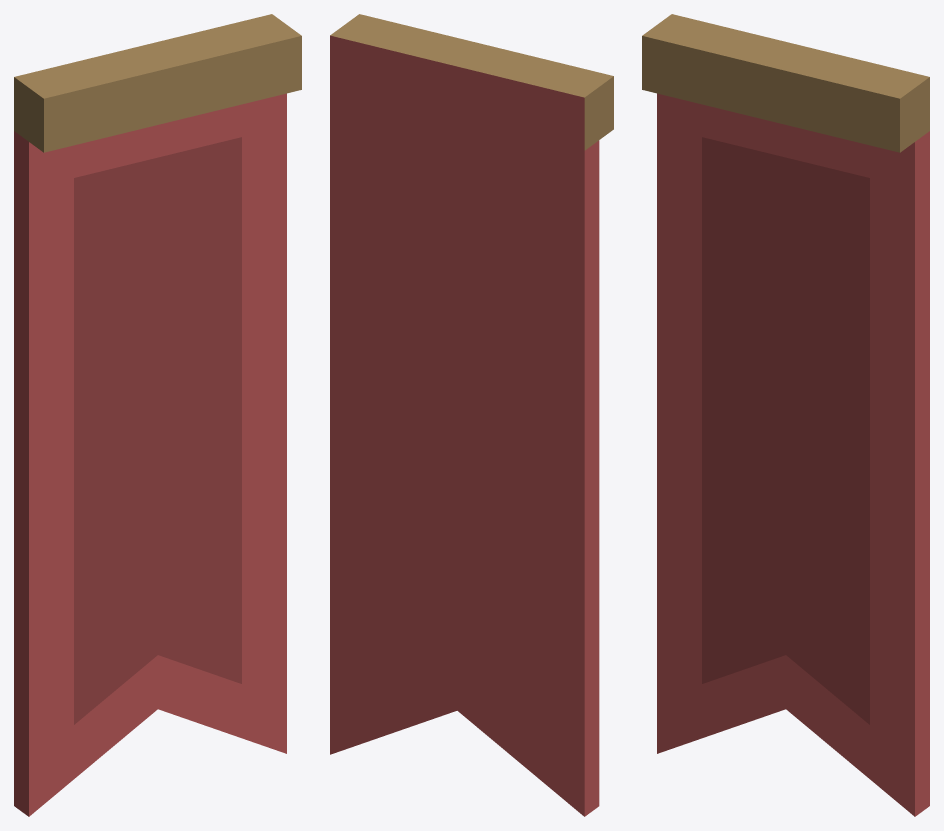
Rendered from Banner_01.obj.
3 views of the same model, side by side, from view 1: azimuth 30°, elevation 25°; view 2: azimuth 150°, elevation 25°; view 3: azimuth 330°, elevation 25° (orthographic).
Parts seen in each view (by area): view 1: Mesh1 Banner Model; view 2: Mesh1 Banner Model; view 3: Mesh1 Banner Model.
Boxes of the visible parts, x1,y1,x2,y2 form: Mesh1 Banner Model: [14, 14, 301, 816]; Mesh1 Banner Model: [330, 14, 613, 816]; Mesh1 Banner Model: [642, 14, 929, 816].
Bounding box in the file's own units: 1 × 2.7 × 0.2.
